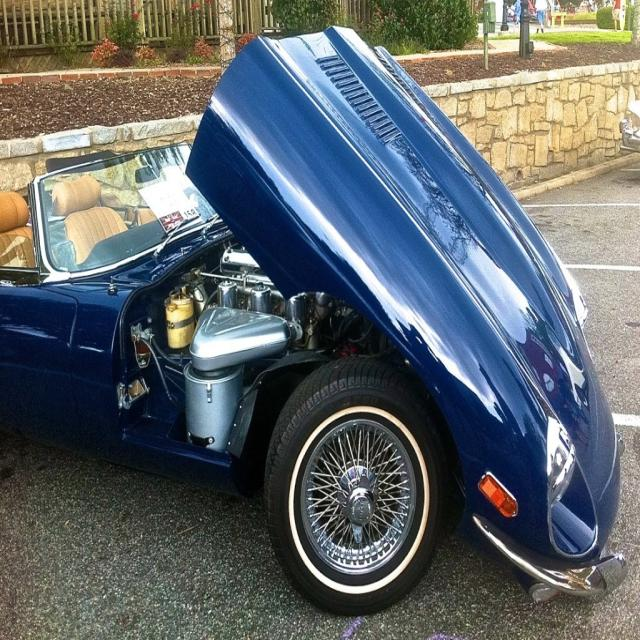car: (0, 24, 624, 600)
